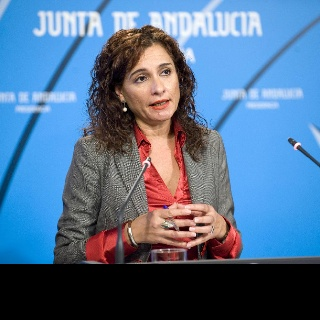without_mask: (125, 43, 181, 120)
